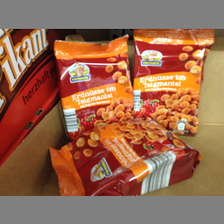nuts: (48, 115, 200, 196), (131, 29, 214, 136), (53, 35, 135, 138)
